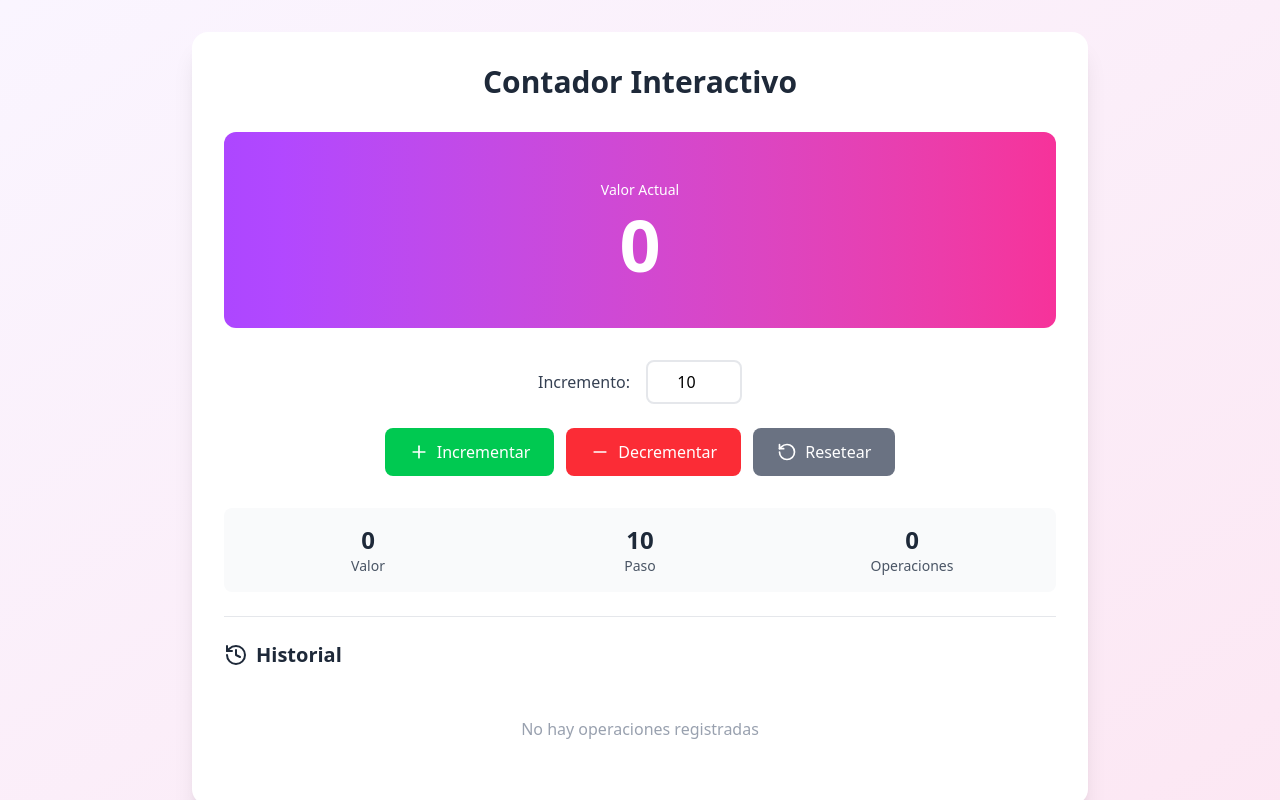
Bloque de pruebas para App de Counter › Funcionalidad de decremento › debe decrementar con pasos personalizados
This screenshot has width=1280, height=800.
Replace the text in the number field labelled "Incremento:" with "3" at (694, 382), box [646,360,742,404]
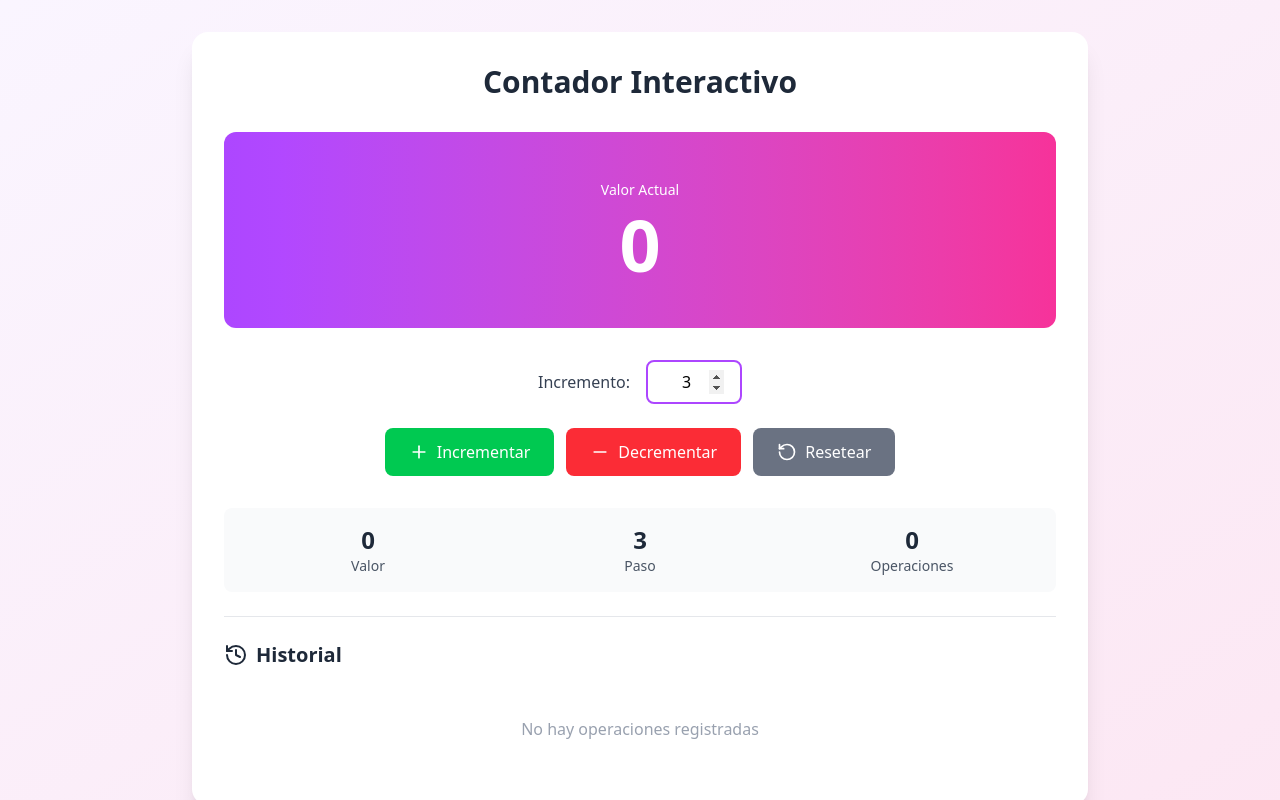
Click the button labelled "Decrementar".
click(654, 452)  # box [566,428,741,476]
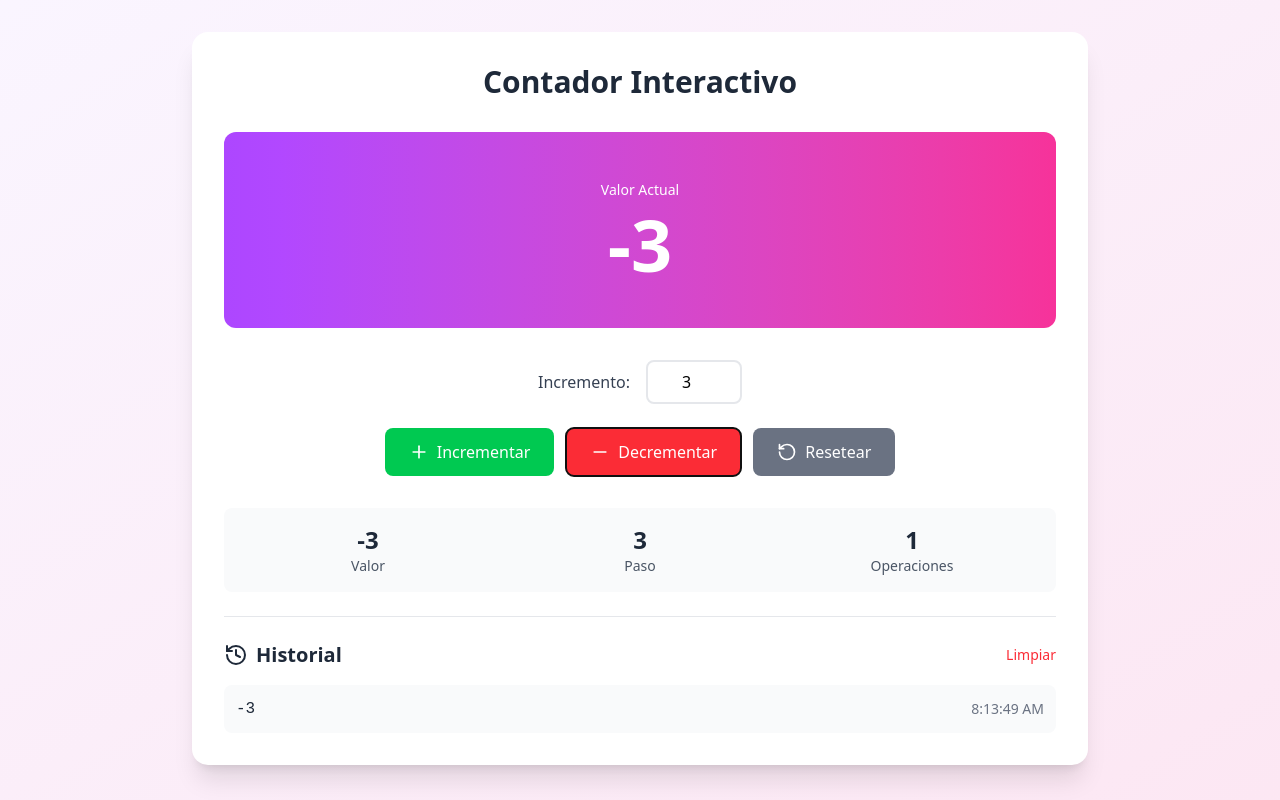
Now the text with test id "counter-value" reads "-3", box [608,195,672,293]
